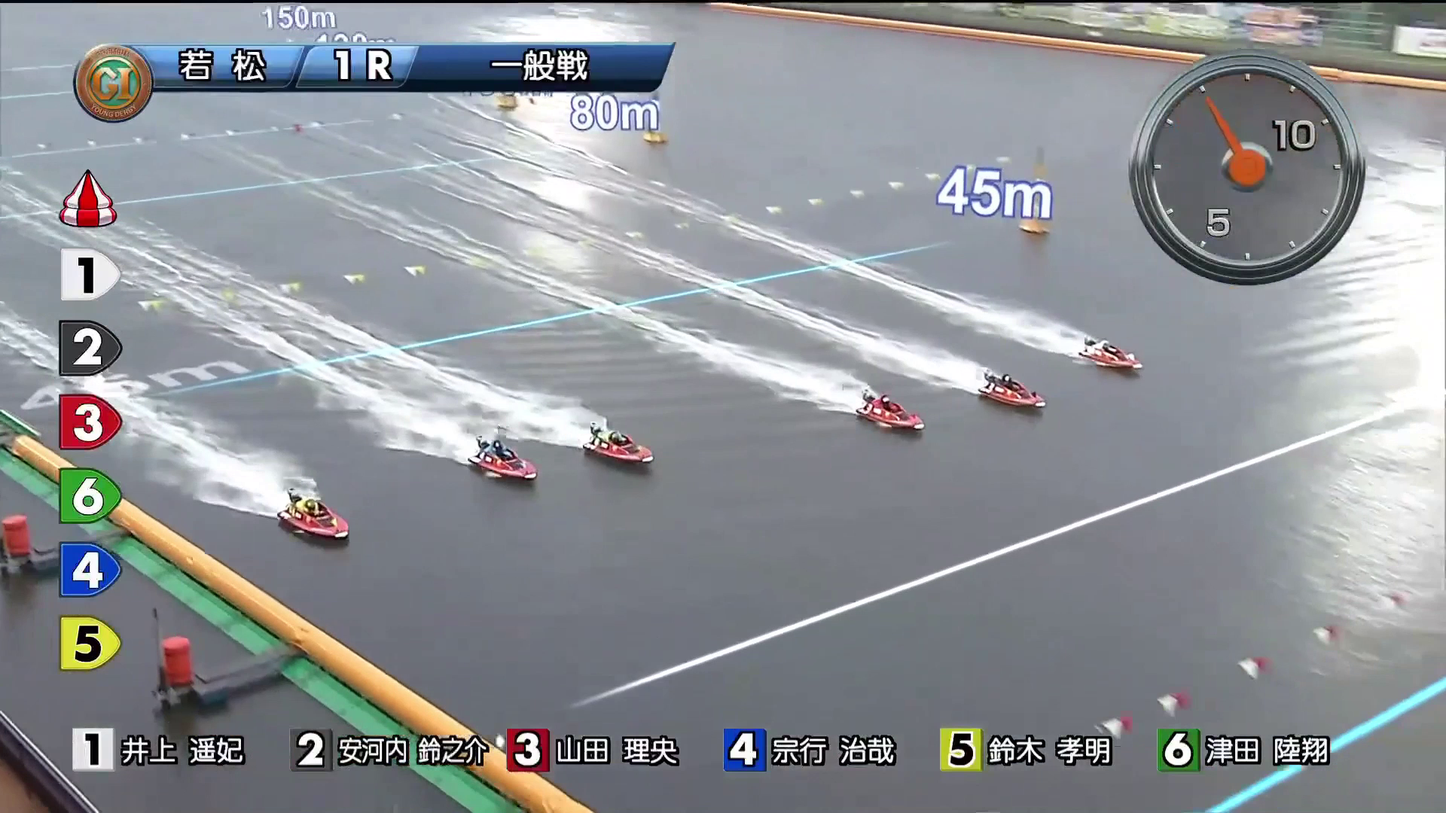１号艇: (1078, 332, 1137, 378)
２号艇: (978, 372, 1040, 410)
３号艇: (859, 390, 914, 431)
４号艇: (589, 426, 651, 469)
５号艇: (467, 443, 536, 481)
６号艇: (283, 497, 349, 543)
